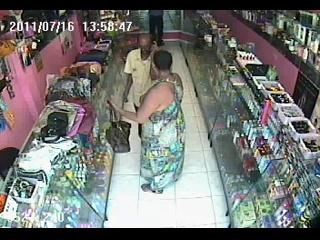Normal: (106, 50, 186, 194), (121, 33, 158, 114), (105, 110, 132, 153), (148, 10, 165, 46), (75, 50, 108, 65)
